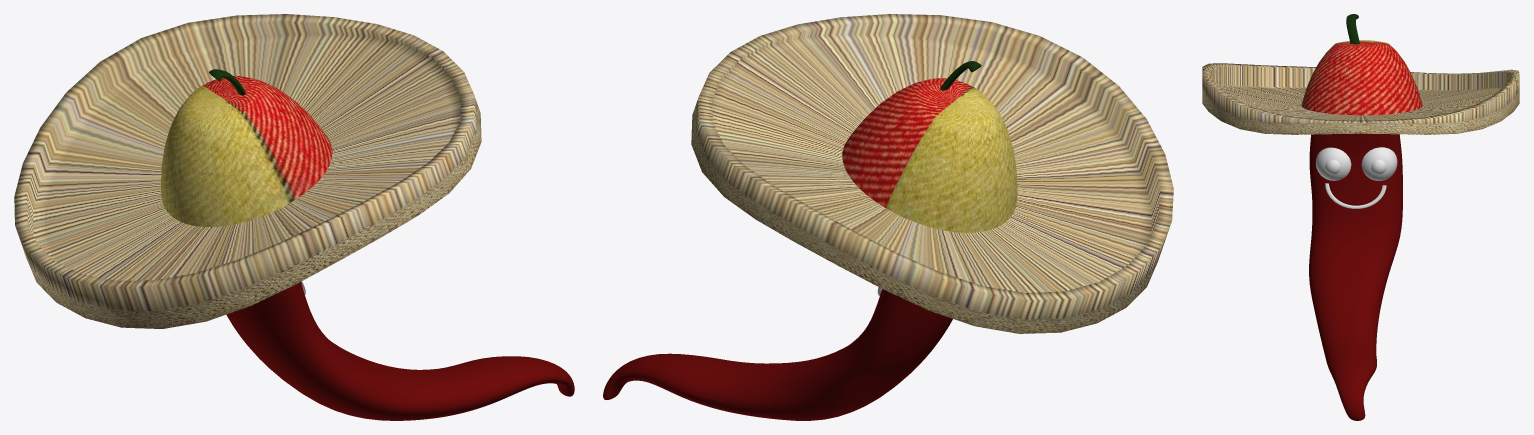
Rendered from piment mort.FBX.
3 renders of one model, left to right at view 1: azimuth 30°, elevation 25°; view 2: azimuth 150°, elevation 25°; view 3: azimuth 270°, elevation 25°, orthographic. The views are drawn at different scales.
Visible parts, largest first — view 1: Cylinder001, Sphere001_ncl1_1, Pepper_Chi001; view 2: Cylinder001, Sphere001_ncl1_1, Pepper_Chi001; view 3: Pepper_Chi001, Cylinder001, Sphere001_ncl1_1, Sphere001, Sphere002, Arc001.
Part boxes in pixels (box(x1,y1,x2,y2)): Cylinder001: box(14, 14, 481, 328); Sphere001_ncl1_1: box(161, 76, 332, 226); Pepper_Chi001: box(209, 69, 574, 420); Cylinder001: box(691, 14, 1173, 333); Sphere001_ncl1_1: box(842, 78, 1017, 232); Pepper_Chi001: box(603, 61, 981, 420); Pepper_Chi001: box(1309, 14, 1402, 420); Cylinder001: box(1202, 63, 1519, 134); Sphere001_ncl1_1: box(1301, 40, 1422, 115); Sphere001: box(1361, 147, 1397, 180); Sphere002: box(1316, 147, 1351, 180); Arc001: box(1325, 183, 1386, 208).
Size of the model in its own units: 198 by 149 by 149.
4 materials, 2 textured.
